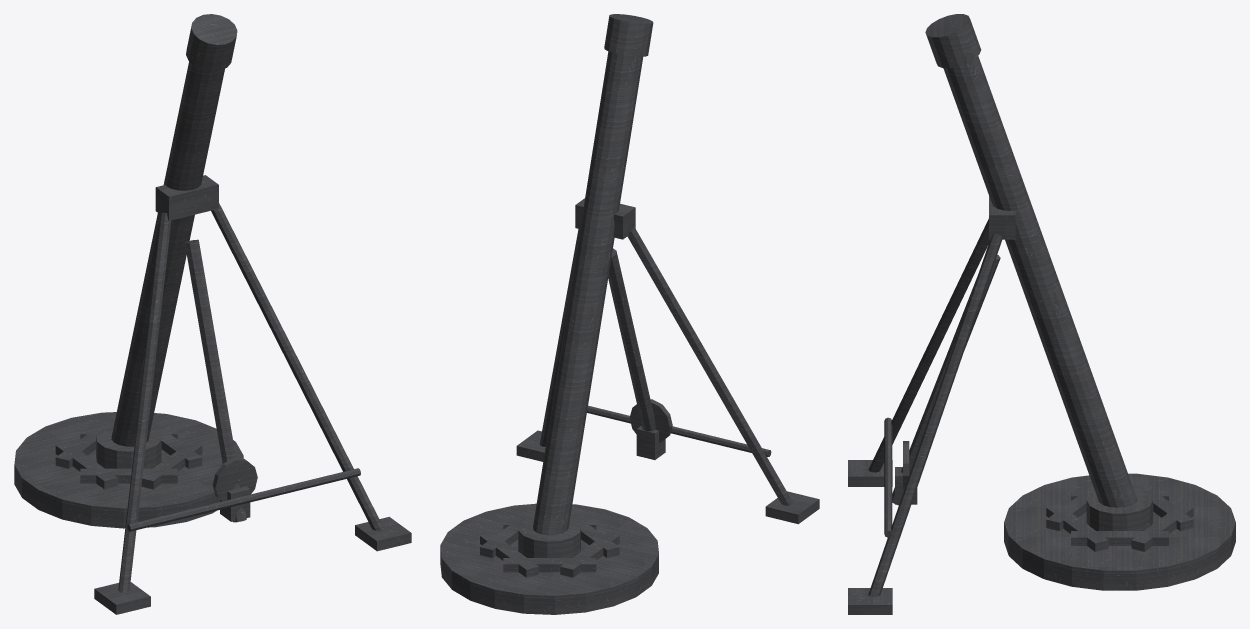
The model's file is mortar.glb.
3 views of the same model, side by side, from view 1: azimuth 30°, elevation 25°; view 2: azimuth 150°, elevation 25°; view 3: azimuth 270°, elevation 25° (orthographic). The views are drawn at different scales.
Parts seen in each view (by area): view 1: mortar; view 2: mortar; view 3: mortar.
Part boxes in pixels (bbox=[...]): mortar: bbox=[14, 14, 411, 614]; mortar: bbox=[440, 14, 819, 614]; mortar: bbox=[848, 14, 1235, 614].
Size of the model in its own units: 0.77 by 1.3 by 0.87.
2 materials, 2 textured.
